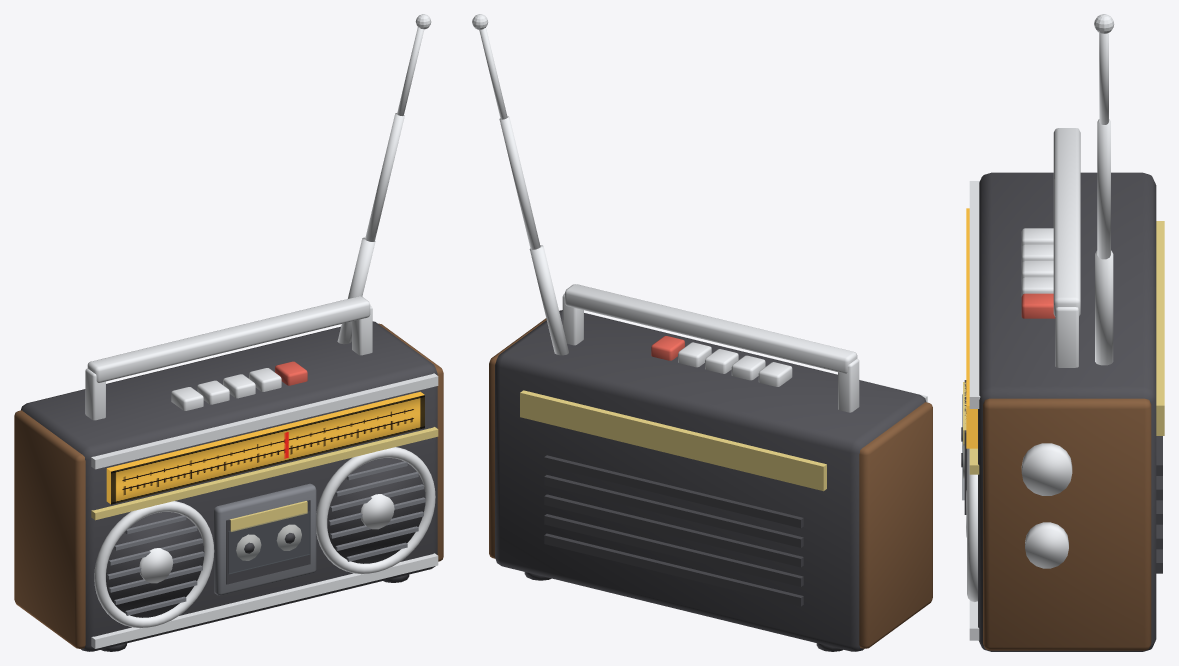
Rendered from arabesk_radio.glb.
The picture shows the model from 3 angles, left to right: view 1: azimuth 30°, elevation 25°; view 2: azimuth 150°, elevation 25°; view 3: azimuth 270°, elevation 25°; orthographic projection. The views are drawn at different scales.
Visible parts, largest first — view 1: RadioChassis, WalnutSide_-0.16, Dial, HandleBar, SpeakerBack_R, FrontFrameTop, SpeakerBack_L, FrontFrameBot, CassetteBezel, SpeakerRing_R, SpeakerRing_L, FrontFrameMid (+12 smaller); view 2: RadioChassis, WalnutSide_-0.16, RearStrip, HandleBar, RearVent_2, RearVent_0, RearVent_1, RearVent_3, RearVent_4, AntennaBase, AntennaMid, WalnutSide_+0.16 (+4 smaller); view 3: WalnutSide_+0.16, RadioChassis, HandleBar, FrontFrameTop, TuneKnob, AntennaBase, RearStrip, AntennaMid, VolKnob, SpeakerRing_R, HandleArm_+0.12, Dial (+9 smaller).
Part boxes in pixels (x1,y1,x2,y2): RadioChassis: (21,321,437,651); WalnutSide_-0.16: (14,410,85,648); Dial: (106,391,424,504); HandleBar: (87,296,370,382); SpeakerBack_R: (327,458,425,563); FrontFrameTop: (91,373,438,469); SpeakerBack_L: (106,512,204,617); FrontFrameBot: (91,553,438,648); CassetteBezel: (214,483,316,595); SpeakerRing_R: (316,447,435,574); SpeakerRing_L: (94,501,214,628); FrontFrameMid: (91,427,438,520); RadioChassis: (495,310,926,651); WalnutSide_-0.16: (859,402,932,648); RearStrip: (520,390,826,491); HandleBar: (564,284,857,373); RearVent_2: (544,494,803,567); RearVent_0: (544,533,803,606); RearVent_1: (544,514,803,586); RearVent_3: (544,475,803,547); RearVent_4: (544,455,803,528); AntennaBase: (529,245,568,355); AntennaMid: (499,116,540,249); WalnutSide_+0.16: (489,318,546,558); WalnutSide_+0.16: (983,398,1151,650); RadioChassis: (978,172,1156,651); HandleBar: (1053,128,1080,316); FrontFrameTop: (969,181,980,408); TuneKnob: (1021,443,1072,495); AntennaBase: (1095,250,1113,365); RearStrip: (1156,221,1164,435); AntennaMid: (1097,119,1110,259); VolKnob: (1025,522,1068,568); SpeakerRing_R: (967,448,977,601); HandleArm_+0.12: (1055,307,1078,367); Dial: (966,208,977,448).
Bounding box in the file's own units: 0.354 × 0.438 × 0.121.
Materials: 10 (1 with a texture image).
